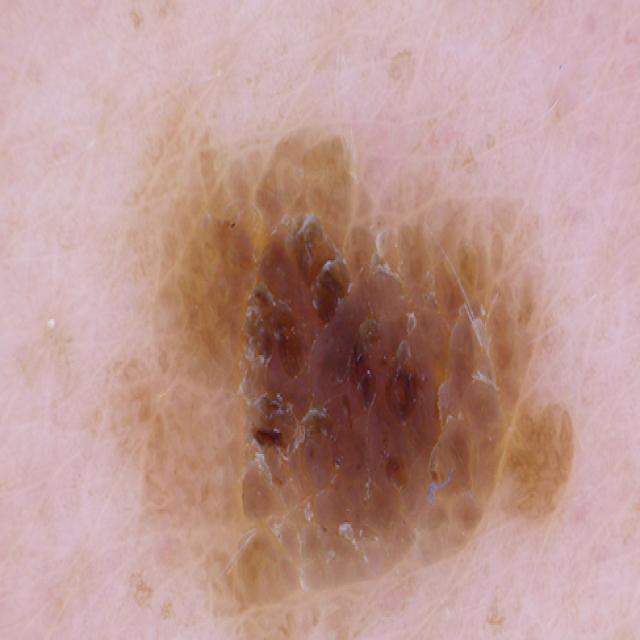Keratosis: (103, 93, 584, 640)
